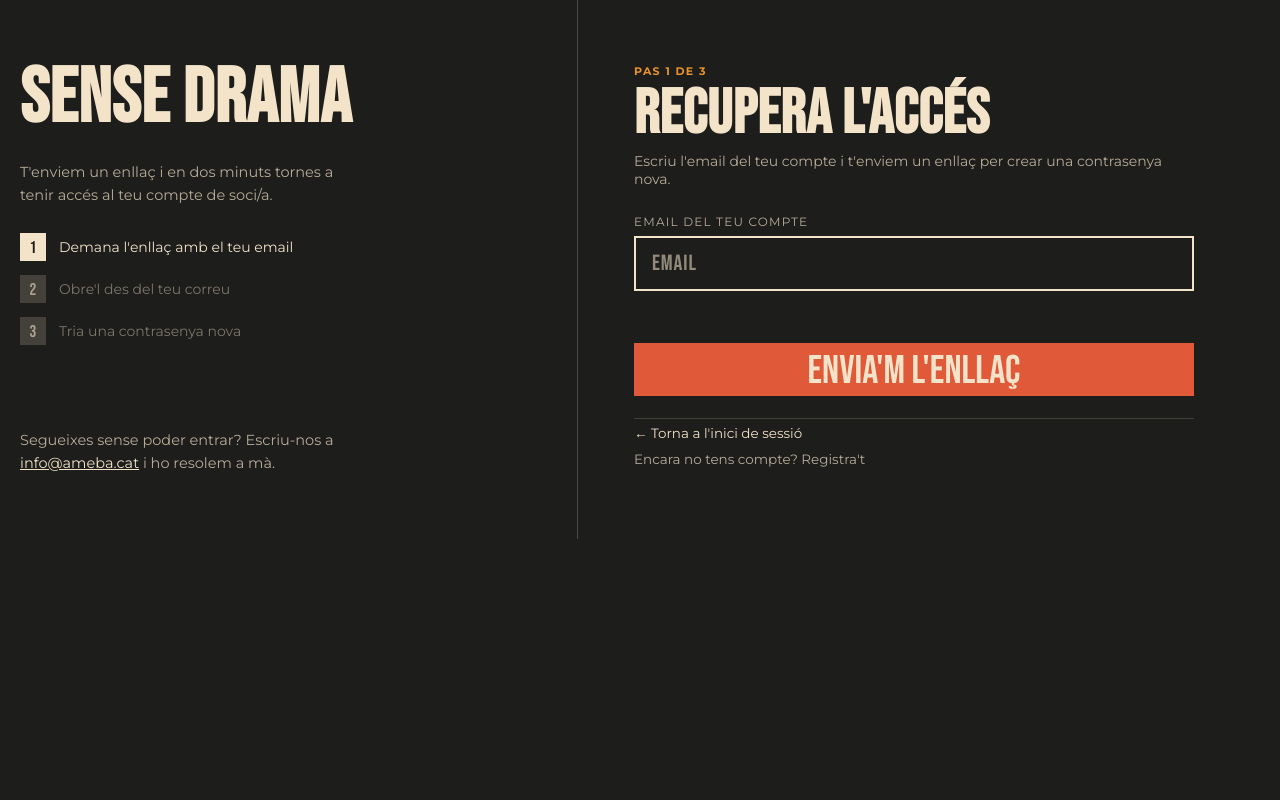
RecoveryRequest › requests the link and moves to the confirmation step with the email shown
Type "hector@ameba.cat" into the field with placeholder "Email".
click(914, 264); type("hector@ameba.cat")  # box [634,236,1194,291]
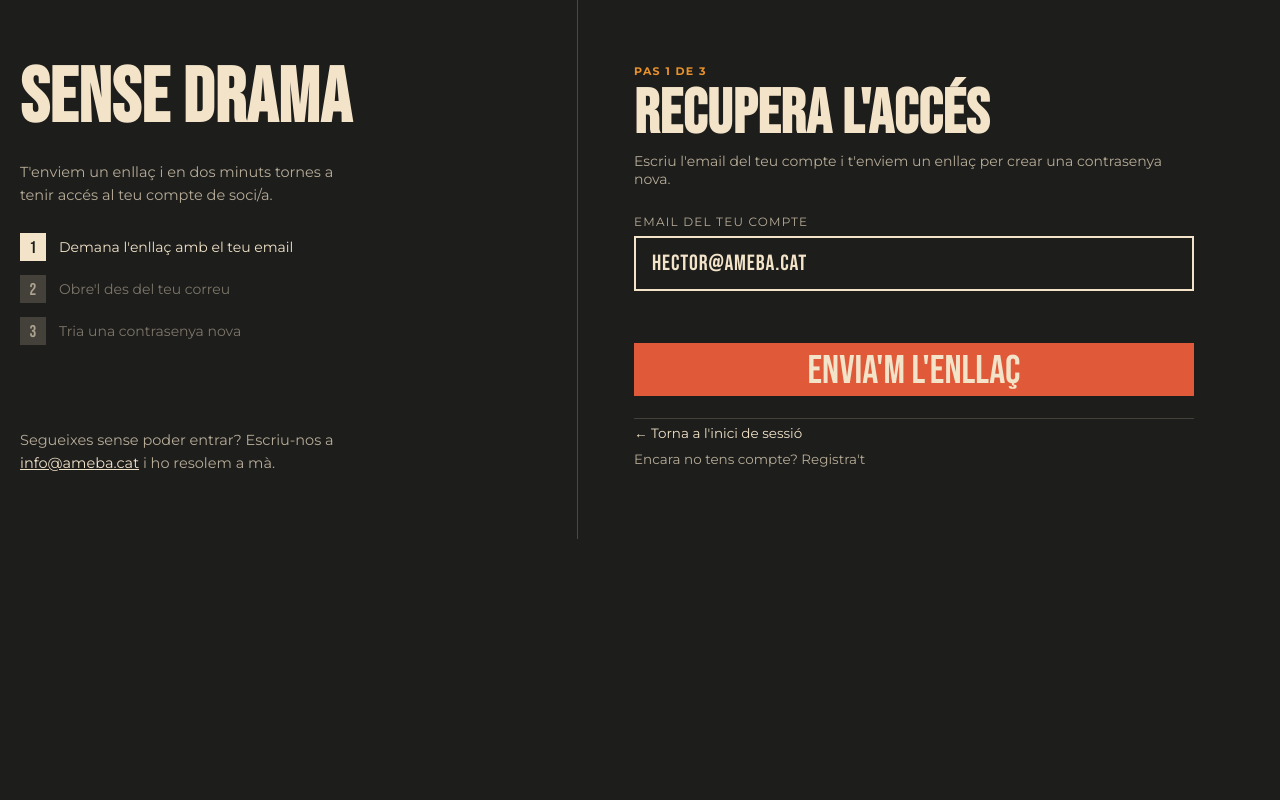
Click the button named "envia'm l'enllaç".
click(914, 370)  # box [634,343,1194,396]
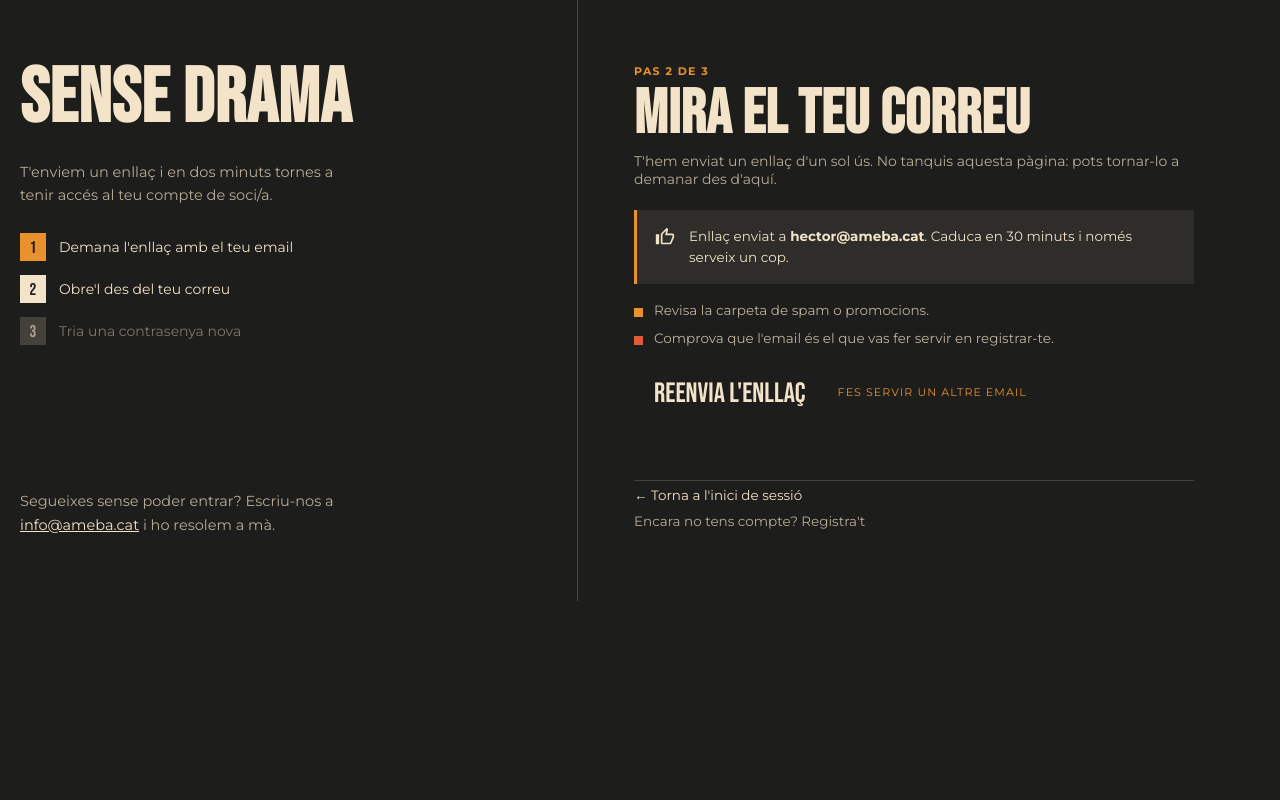
Expected: the text "hector@ameba.cat" is shown, [790,228,924,244]
